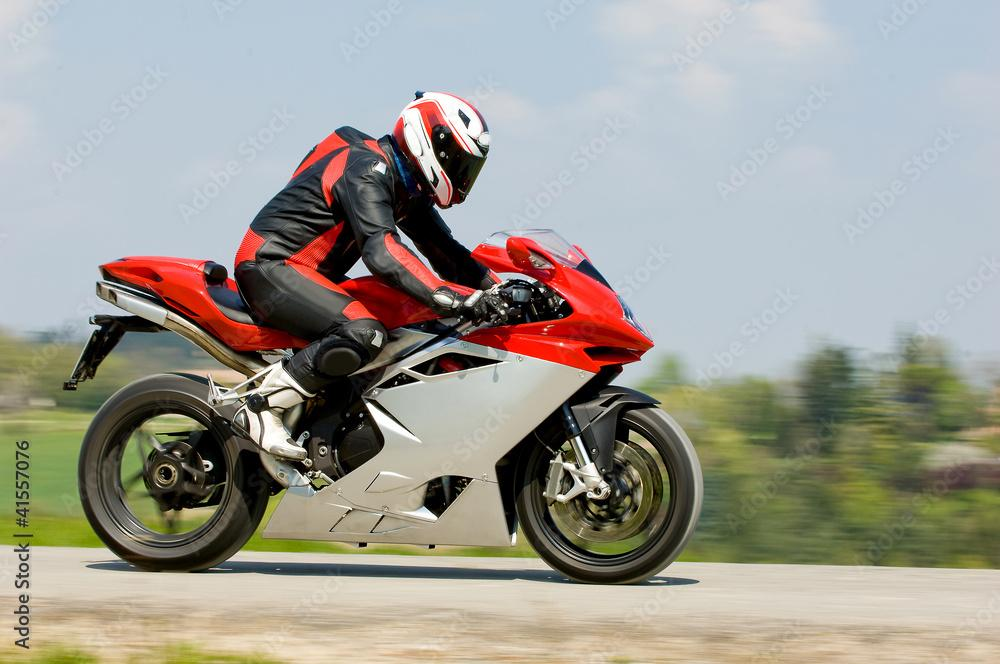helmet: (392, 89, 492, 211)
